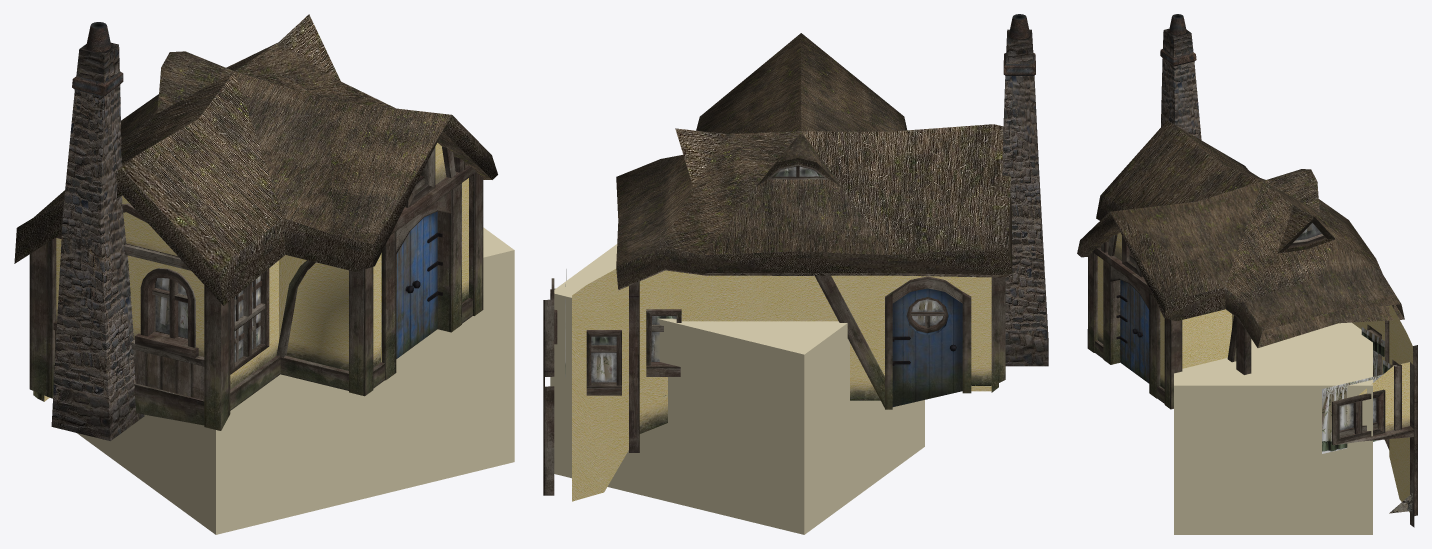
Rendered from bldg_01_tudor_bakery.glb.
3 renders of one model, left to right at view 1: azimuth 30°, elevation 25°; view 2: azimuth 150°, elevation 25°; view 3: azimuth 270°, elevation 25°, orthographic. The views are drawn at different scales.
Parts seen in each view (by area): view 1: TudorBakery; view 2: TudorBakery; view 3: TudorBakery.
Boxes of the visible parts, x1,y1,x2,y2 form: TudorBakery: (14, 14, 514, 534); TudorBakery: (543, 14, 1048, 534); TudorBakery: (1077, 14, 1417, 534).
Size of the model in its own units: 9.01 by 9.59 by 7.87.
Materials: 10 (9 with a texture image).
